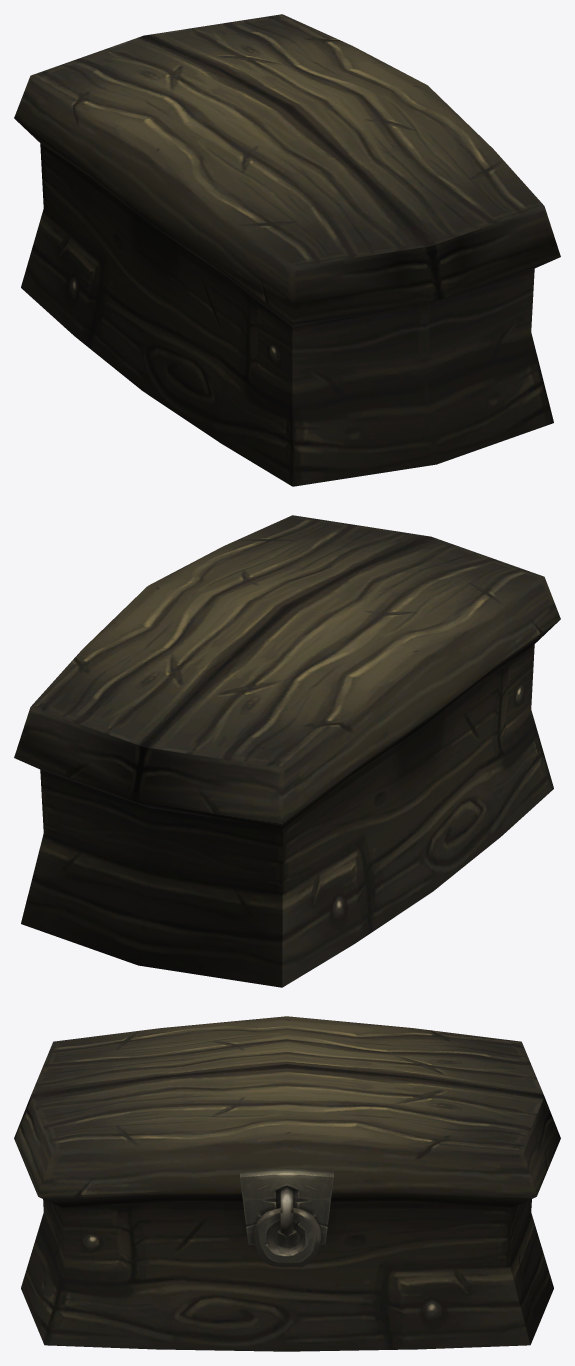
Rendered from 6hu_enchanting_chest01.obj.
3 renders of one model, top to bottom at view 1: azimuth 30°, elevation 25°; view 2: azimuth 150°, elevation 25°; view 3: azimuth 270°, elevation 25°, orthographic. The views are drawn at different scales.
Visible parts, largest first — view 1: 6hu_enchanting_chest010; view 2: 6hu_enchanting_chest010; view 3: 6hu_enchanting_chest010.
Part boxes in pixels (x1,y1,x2,y2): 6hu_enchanting_chest010: (14,14,560,486); 6hu_enchanting_chest010: (14,515,560,987); 6hu_enchanting_chest010: (14,1016,560,1351).
Size of the model in its own units: 1.09 by 0.8029 by 1.79.
1 material, 1 textured.
